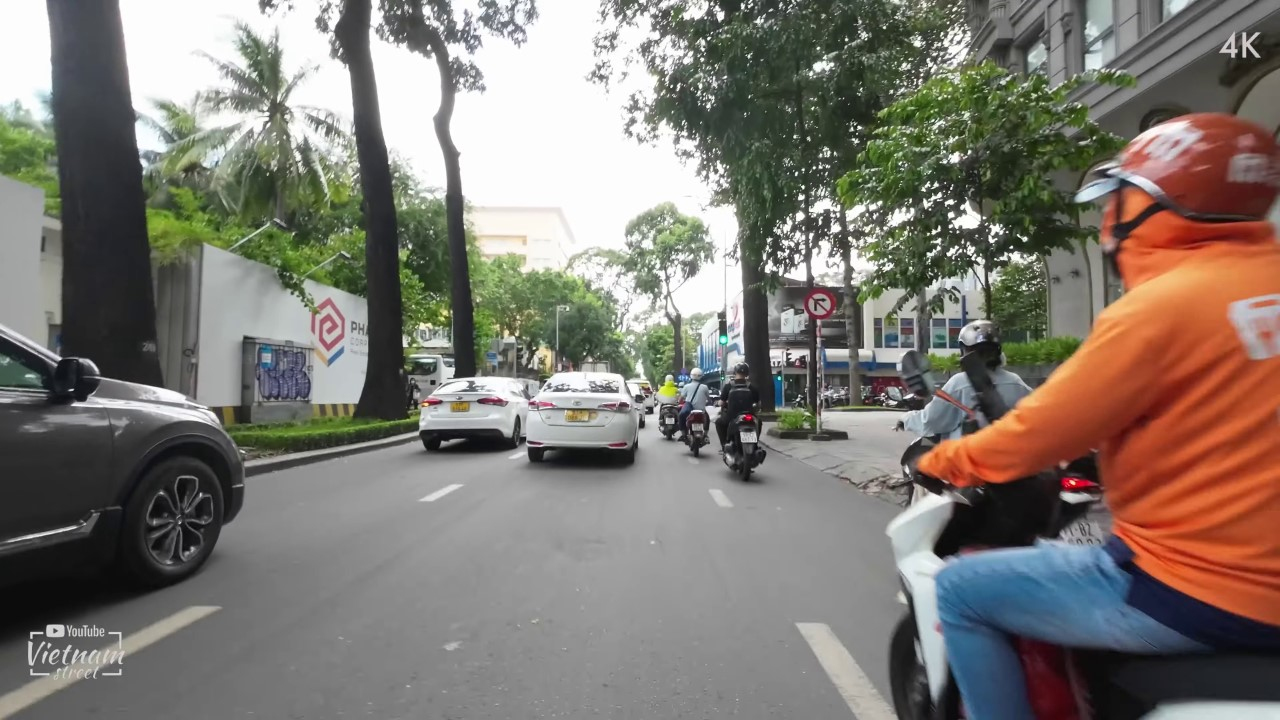cam_re_phai: (802, 288, 834, 320)
